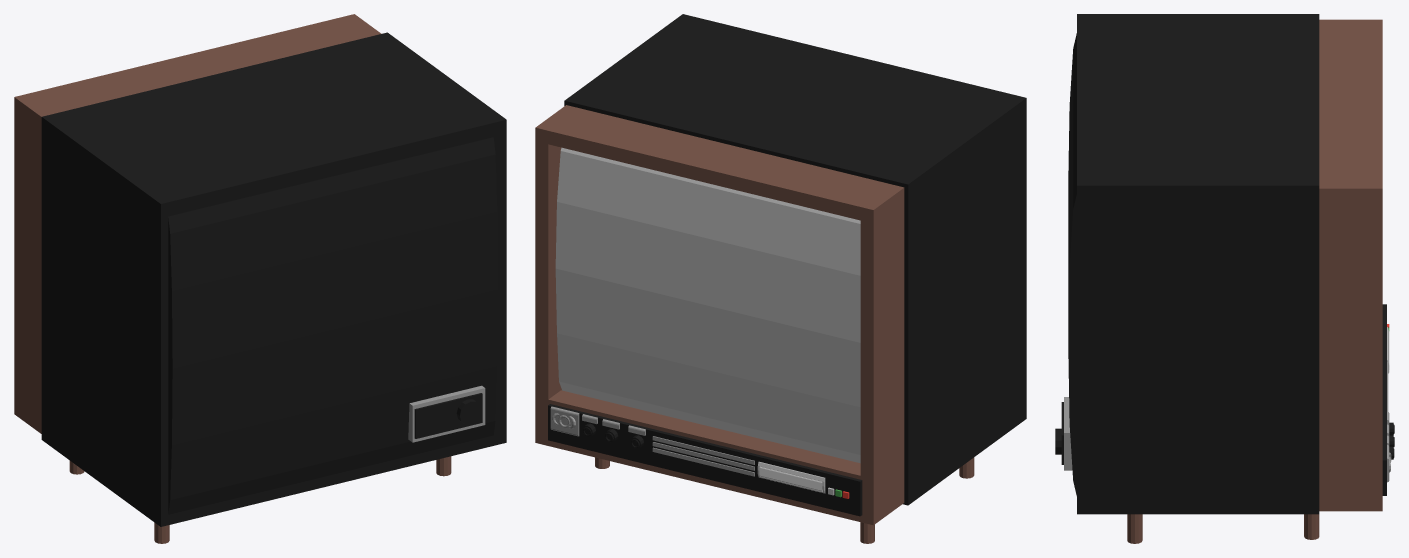
3 renders of one model, left to right at view 1: azimuth 30°, elevation 25°; view 2: azimuth 150°, elevation 25°; view 3: azimuth 270°, elevation 25°, orthographic. The views are drawn at different scales.
Parts seen in each view (by area): view 1: mesh_1644547169, mesh_693330270, mesh_2129653897, mesh_684330329, mesh_329165408, mesh_954181115; view 2: mesh_693330270, mesh_1626004127, mesh_684330329, mesh_2129653897, mesh_970267179, mesh_1004929428, mesh_1085757518; view 3: mesh_693330270, mesh_1085757518, mesh_684330329, mesh_1644547169, mesh_970267179, mesh_2129653897, mesh_954181115, mesh_1131956557.
Boxes of the visible parts, x1=… form: mesh_1644547169: x1=168, y1=137, x2=497, y2=514; mesh_693330270: x1=41, y1=32, x2=506, y2=526; mesh_2129653897: x1=14, y1=94, x2=53, y2=433; mesh_684330329: x1=14, y1=14, x2=381, y2=113; mesh_329165408: x1=414, y1=393, x2=482, y2=438; mesh_954181115: x1=408, y1=385, x2=485, y2=442; mesh_693330270: x1=564, y1=14, x2=1026, y2=505; mesh_1626004127: x1=555, y1=147, x2=860, y2=463; mesh_684330329: x1=535, y1=105, x2=893, y2=223; mesh_2129653897: x1=860, y1=184, x2=904, y2=525; mesh_970267179: x1=548, y1=404, x2=862, y2=516; mesh_1004929428: x1=535, y1=390, x2=873, y2=524; mesh_1085757518: x1=535, y1=133, x2=561, y2=445; mesh_693330270: x1=1077, y1=14, x2=1319, y2=514; mesh_1085757518: x1=1319, y1=194, x2=1382, y2=511; mesh_684330329: x1=1319, y1=26, x2=1382, y2=199; mesh_1644547169: x1=1068, y1=33, x2=1076, y2=495; mesh_970267179: x1=1382, y1=304, x2=1386, y2=495; mesh_2129653897: x1=1319, y1=19, x2=1382, y2=26; mesh_954181115: x1=1064, y1=397, x2=1072, y2=470; mesh_1131956557: x1=1127, y1=514, x2=1142, y2=543.
Bounding box in the file's own units: 186 × 188 × 156.
